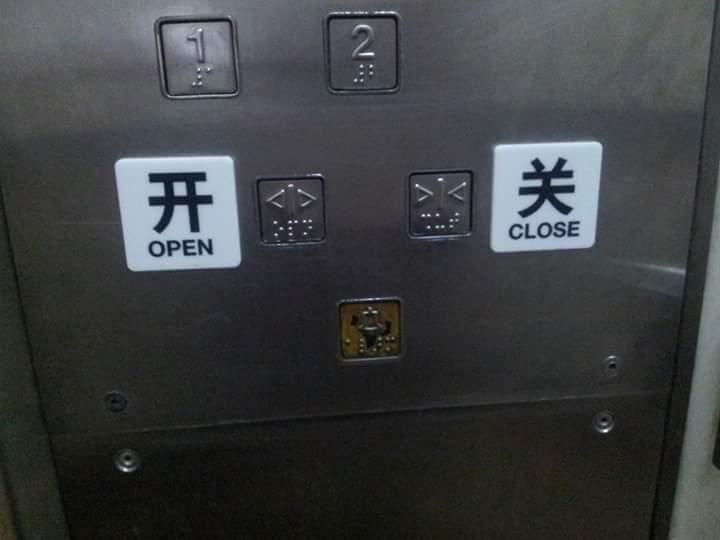1: (151, 10, 246, 104)
2: (319, 8, 405, 99)
alarm: (334, 292, 406, 366)
close: (403, 165, 477, 244)
open: (250, 171, 331, 250)
